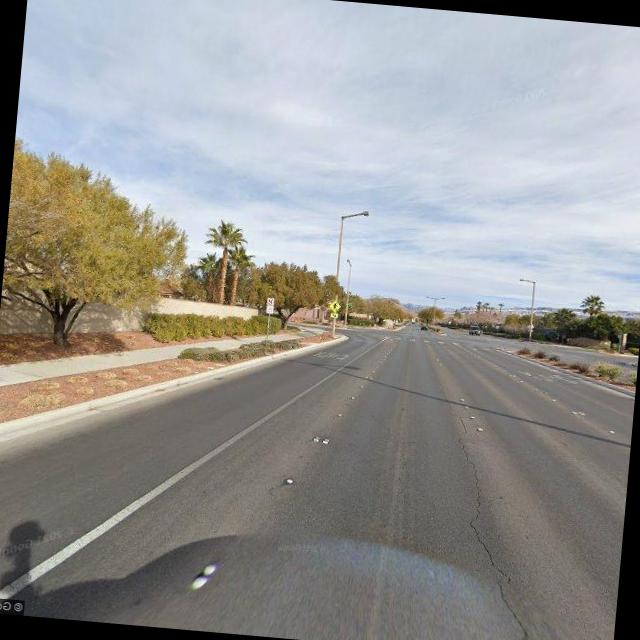pothole: (442, 429, 557, 640)
